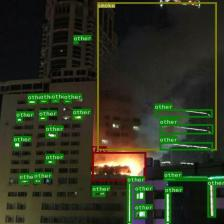fire: (92, 152, 146, 181)
smoke: (97, 2, 216, 150)
